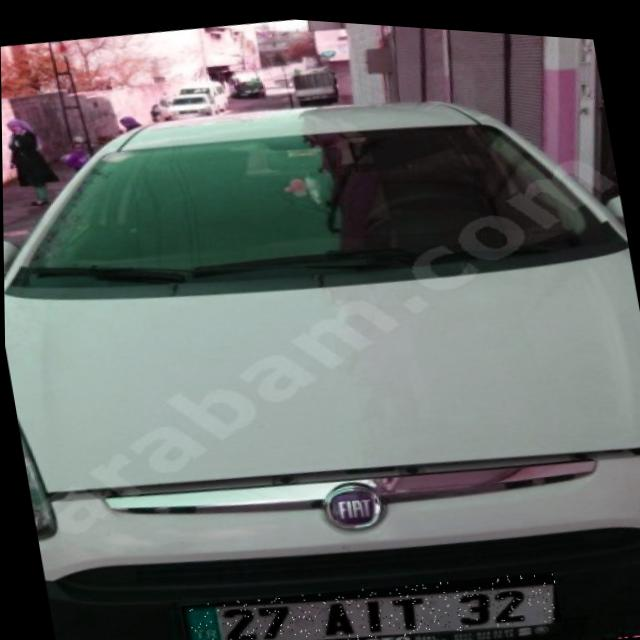license_plate: (178, 544, 560, 640)
